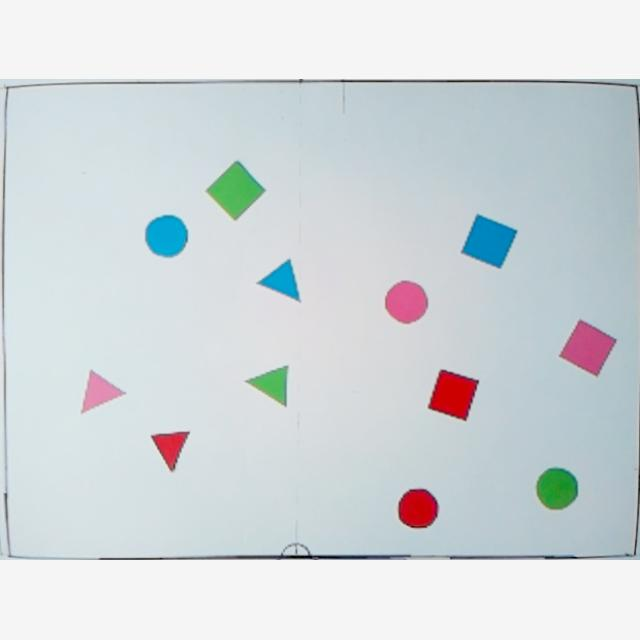blueCircle: (144, 214, 190, 262)
blueSquare: (459, 214, 518, 272)
blueTriangle: (256, 258, 306, 306)
greenCircle: (534, 468, 580, 512)
greenSquare: (205, 162, 268, 222)
greenTriangle: (244, 362, 290, 410)
pinkCircle: (384, 282, 430, 326)
pinkSquare: (557, 319, 619, 379)
pinkTriangle: (77, 369, 129, 419)
redCircle: (394, 487, 442, 531)
redSquare: (425, 368, 481, 424)
redTriangle: (150, 430, 192, 474)
